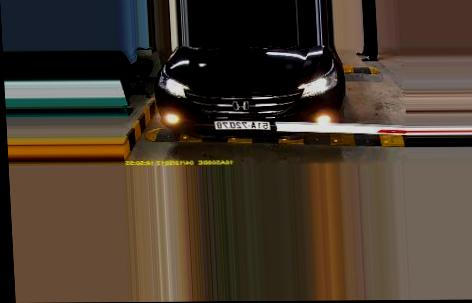License_Plate: (212, 121, 271, 131)
